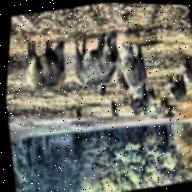boar: (11, 31, 76, 97), (65, 29, 127, 96), (116, 37, 154, 93), (159, 77, 188, 108), (176, 53, 192, 88)
